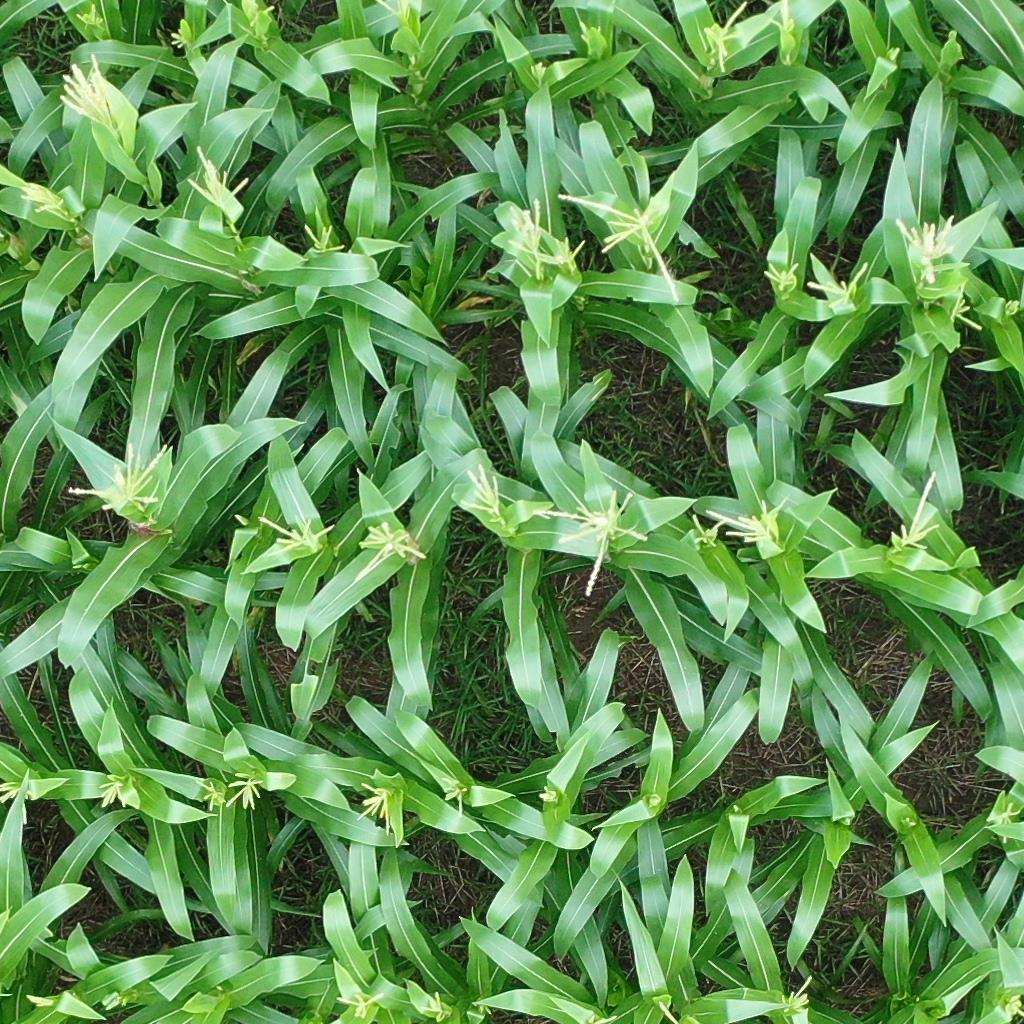Tassel: (558, 180, 688, 304), (526, 479, 650, 599), (66, 435, 173, 516), (53, 56, 126, 139), (890, 209, 967, 286), (351, 518, 430, 582), (893, 466, 950, 553), (187, 142, 253, 217), (707, 492, 791, 547), (499, 196, 550, 285), (252, 515, 337, 558), (355, 773, 404, 844), (805, 259, 870, 312), (706, 1, 750, 72), (453, 460, 502, 516), (943, 280, 987, 336), (13, 182, 73, 219), (534, 235, 589, 274), (985, 798, 1022, 845), (223, 769, 266, 809), (297, 221, 343, 258), (685, 510, 726, 550), (1, 778, 35, 825), (757, 260, 799, 292), (93, 778, 133, 811), (196, 777, 230, 812), (444, 777, 472, 816), (242, 1, 279, 29), (573, 16, 603, 49), (769, 1, 796, 35), (75, 1, 106, 26), (374, 1, 411, 19), (529, 61, 548, 89), (169, 30, 192, 52), (539, 784, 560, 806), (646, 785, 663, 809), (1003, 297, 1020, 315)
